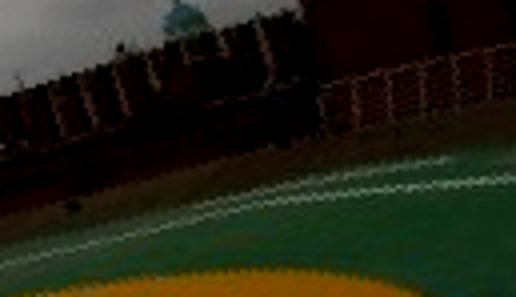Apron: (25, 263, 427, 296)
